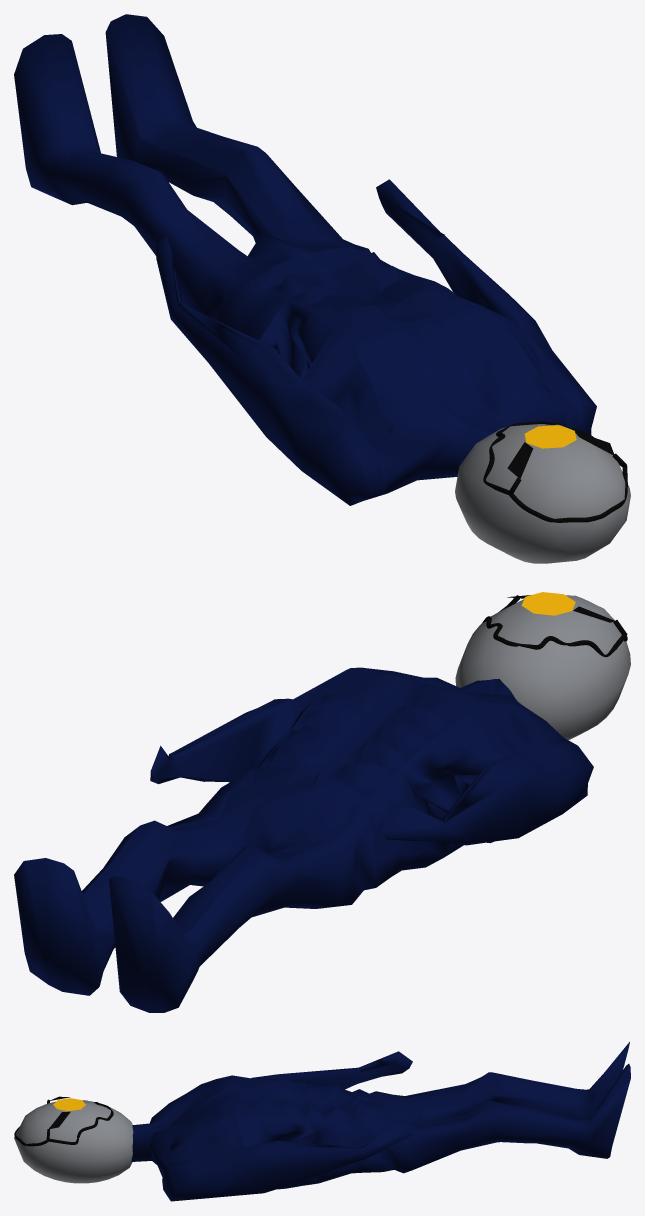
File: NinjaChar.obj
The picture shows the model from 3 angles, top to bottom: view 1: azimuth 30°, elevation 25°; view 2: azimuth 150°, elevation 25°; view 3: azimuth 270°, elevation 25°; orthographic projection. The views are drawn at different scales.
Visible parts, largest first — view 1: s.0053, s.0062, s.0156, s.0169; view 2: s.0053, s.0062, s.0156, s.0170; view 3: s.0053, s.0062, s.0170, s.0156.
Boxes of the visible parts, x1,y1,x2,y2 form: s.0053: [14, 14, 596, 505]; s.0062: [455, 424, 630, 563]; s.0156: [524, 425, 576, 448]; s.0169: [509, 465, 627, 522]; s.0053: [14, 667, 593, 1012]; s.0062: [455, 595, 630, 740]; s.0156: [521, 592, 575, 615]; s.0170: [482, 605, 626, 657]; s.0053: [131, 1042, 630, 1201]; s.0062: [14, 1100, 133, 1183]; s.0170: [48, 1100, 113, 1144]; s.0156: [53, 1098, 85, 1111].
Bounding box in the file's own units: 0.8675 × 0.6101 × 2.74.
